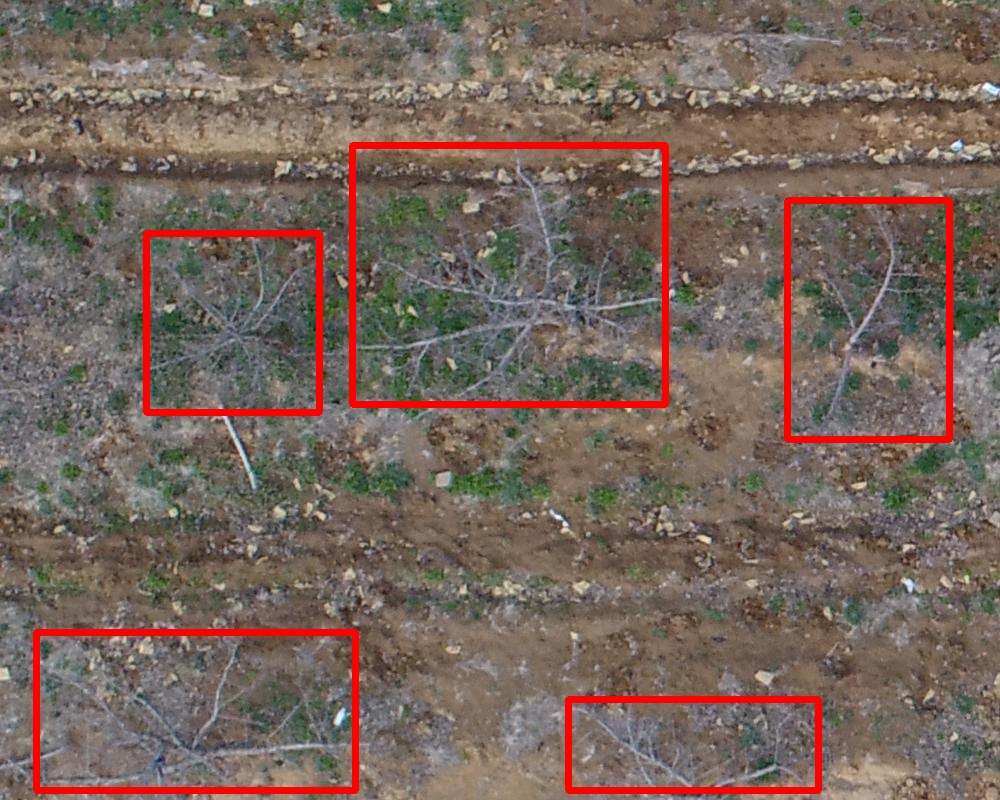apple: (352, 145, 665, 404), (36, 632, 355, 790), (787, 200, 949, 439), (146, 233, 319, 412), (568, 699, 818, 790)
